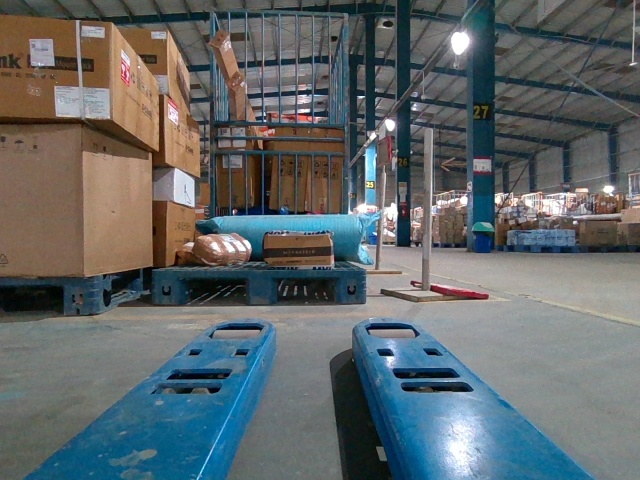block: (65, 273, 103, 318), (336, 267, 366, 305), (153, 267, 180, 305), (245, 264, 273, 300)
front: (153, 268, 367, 304)
hole pallet: (181, 273, 252, 305), (273, 275, 345, 303)
